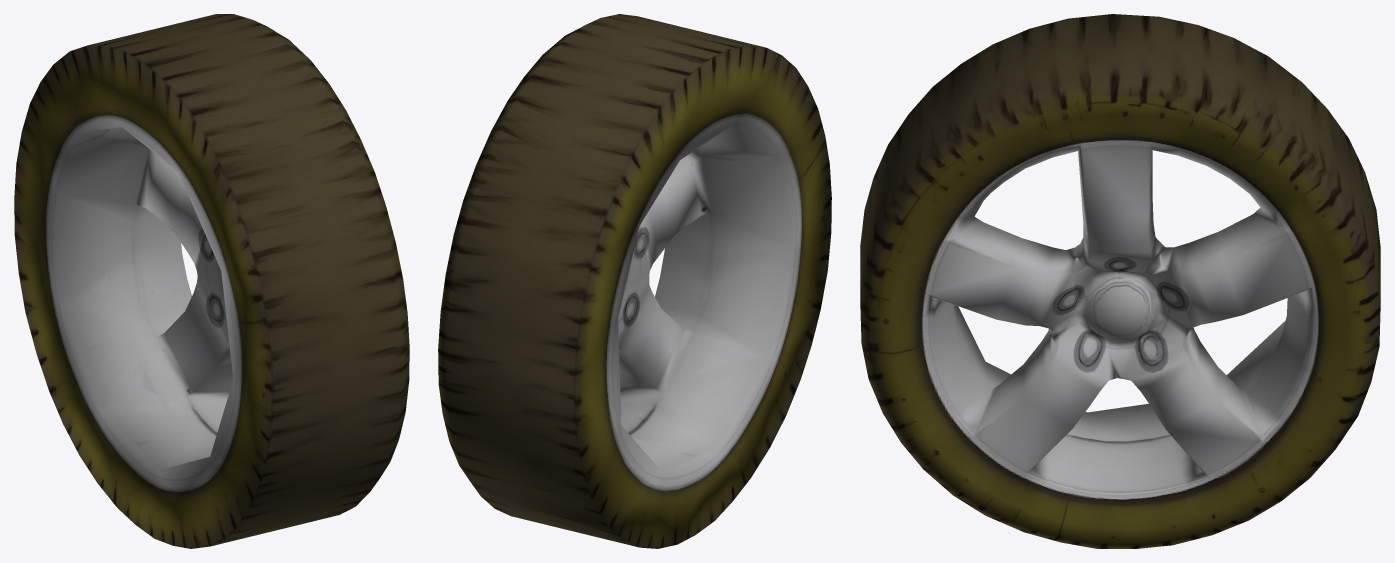
File: wheel.glb
The picture shows the model from 3 angles, left to right: view 1: azimuth 30°, elevation 25°; view 2: azimuth 150°, elevation 25°; view 3: azimuth 270°, elevation 25°; orthographic projection.
Visible parts, largest first — view 1: tripo_node_25d52a99-b47e-4642-9933-da6b1a8400c8; view 2: tripo_node_25d52a99-b47e-4642-9933-da6b1a8400c8; view 3: tripo_node_25d52a99-b47e-4642-9933-da6b1a8400c8.
Boxes of the visible parts, x1=… form: tripo_node_25d52a99-b47e-4642-9933-da6b1a8400c8: x1=14, y1=14, x2=409, y2=548; tripo_node_25d52a99-b47e-4642-9933-da6b1a8400c8: x1=438, y1=14, x2=831, y2=548; tripo_node_25d52a99-b47e-4642-9933-da6b1a8400c8: x1=860, y1=14, x2=1380, y2=548.
Size of the model in its own units: 0.3262 by 0.998 by 0.998.
Materials: 1 (1 with a texture image).
